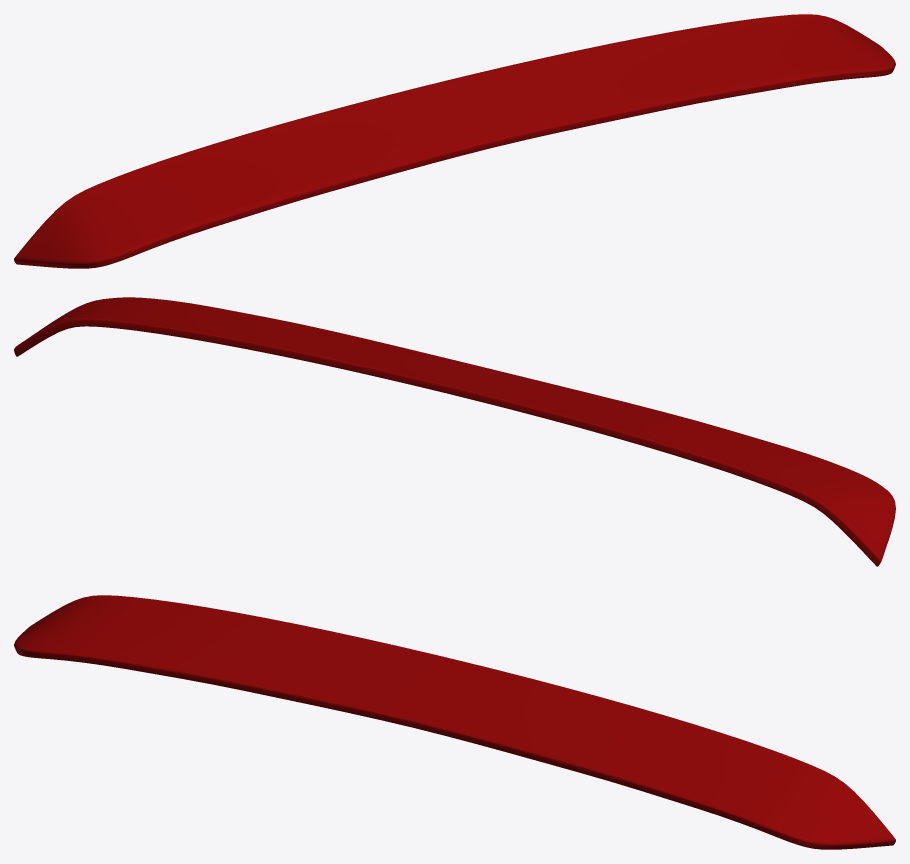
The model's file is roofspoiler_dmax.glb.
The picture shows the model from 3 angles, top to bottom: view 1: azimuth 30°, elevation 25°; view 2: azimuth 150°, elevation 25°; view 3: azimuth 330°, elevation 25°; orthographic projection.
Visible parts, largest first — view 1: Spoiler; view 2: Spoiler; view 3: Spoiler.
Boxes of the visible parts, x1=… form: Spoiler: x1=14, y1=14, x2=895, y2=268; Spoiler: x1=14, y1=297, x2=895, y2=566; Spoiler: x1=14, y1=595, x2=895, y2=849.
Bounding box in the file's own units: 1.09 × 0.0934 × 0.1206.
